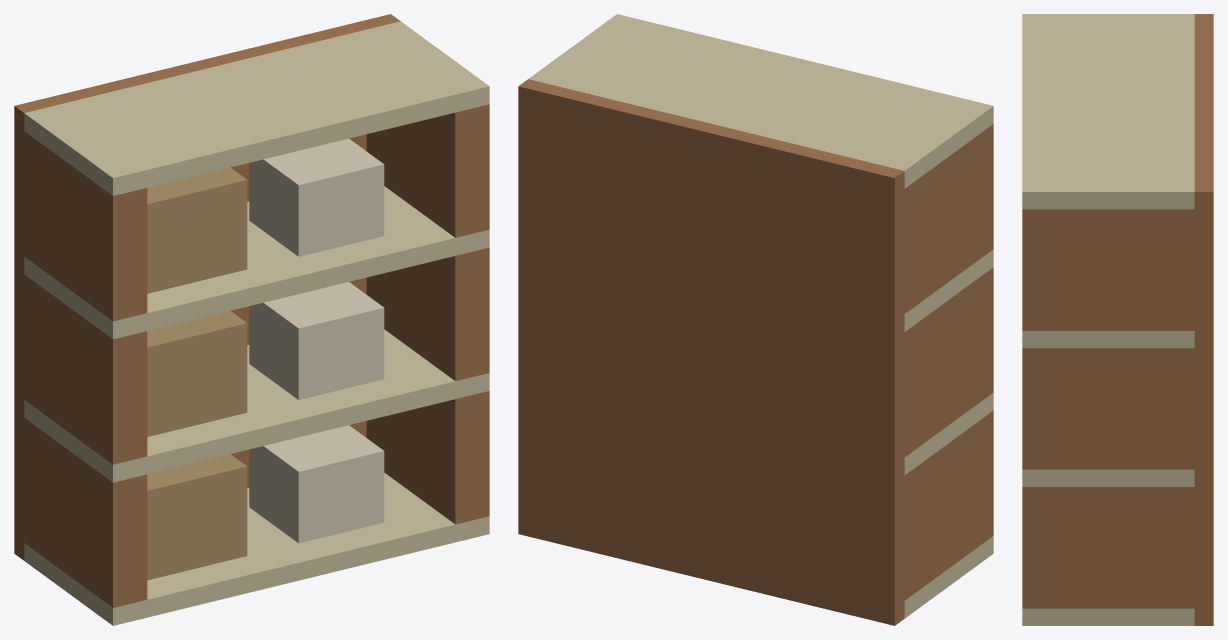
File: logistics-05.glb
3 views of the same model, side by side, from view 1: azimuth 30°, elevation 25°; view 2: azimuth 150°, elevation 25°; view 3: azimuth 270°, elevation 25° (orthographic). The views are drawn at different scales.
Visible parts, largest first — view 1: Storage rack; view 2: Storage rack; view 3: Storage rack.
Boxes of the visible parts, x1,y1,x2,y2 form: Storage rack: (14, 14, 489, 625); Storage rack: (518, 14, 993, 625); Storage rack: (1022, 14, 1213, 625).
Size of the model in its own units: 1.76 by 2 by 0.8.
